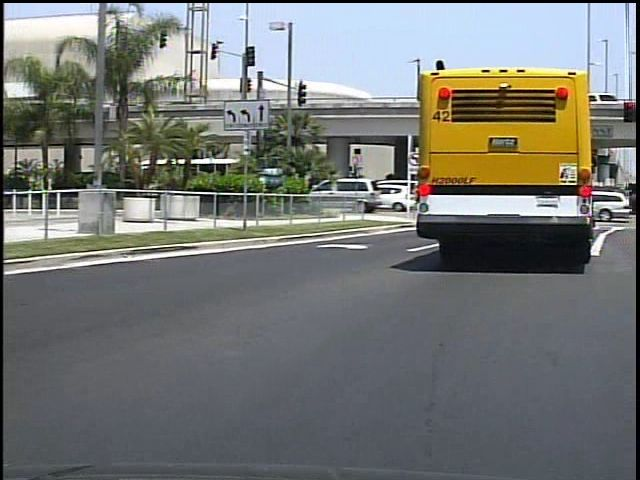car: (323, 174, 382, 213), (591, 190, 634, 222)
strada: (1, 209, 631, 479)
